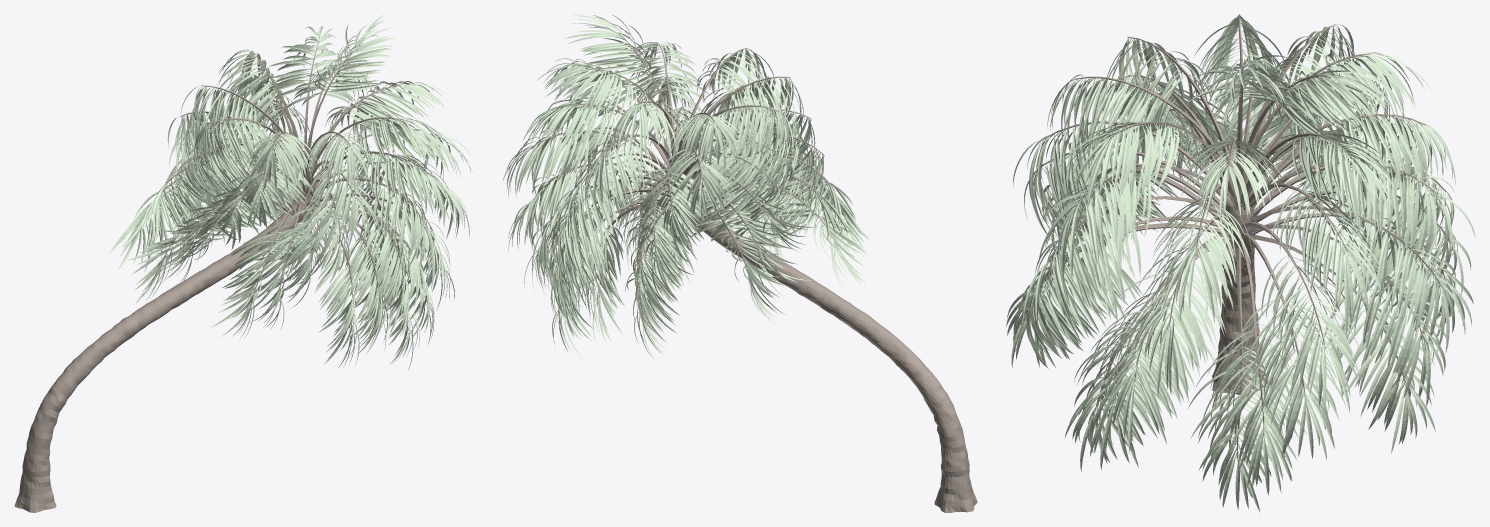
The model's file is palm-tree.gltf.
3 views of the same model, side by side, from view 1: azimuth 30°, elevation 25°; view 2: azimuth 150°, elevation 25°; view 3: azimuth 270°, elevation 25° (orthographic). The views are drawn at different scales.
Visible parts, largest first — view 1: Leaves, Curly Palm tree.1, Branches; view 2: Leaves, Curly Palm tree.1, Branches; view 3: Leaves, Branches, Curly Palm tree.1.
Part boxes in pixels (x1,y1,x2,y2): Leaves: (108,14,472,369); Curly Palm tree.1: (14,178,315,512); Branches: (157,40,441,327); Leaves: (502,14,869,359); Curly Palm tree.1: (666,168,977,512); Branches: (526,34,842,314); Leaves: (1006,15,1475,512); Branches: (1026,14,1450,458); Curly Palm tree.1: (1212,204,1268,394).
Size of the model in its own units: 3.51 by 3.03 by 2.27.
